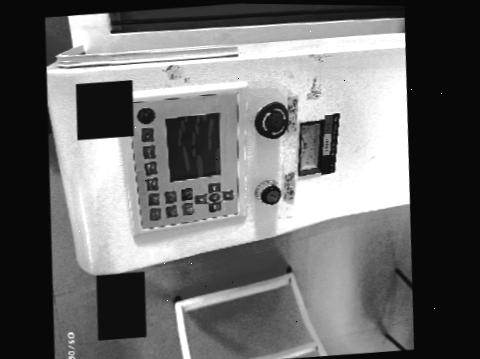Amp_Meter: (299, 123, 320, 173)
Display: (165, 113, 219, 181)
Down_button: (194, 193, 206, 204)
Emergency_Stop: (254, 101, 288, 138)
Enter_button: (181, 202, 192, 214)
Esc_button: (180, 187, 193, 201)
File_button: (146, 192, 159, 205)
Frame_button: (165, 204, 177, 217)
Left_button: (207, 182, 219, 192)
Max-Power_button: (145, 177, 157, 190)
Min-Power_button: (144, 161, 156, 175)
Origin_button: (163, 190, 176, 203)
Power_switch: (255, 180, 280, 204)
Pulse_button: (140, 127, 154, 142)
Reset_button: (136, 107, 154, 123)
Right_button: (208, 201, 220, 211)
Speed_button: (141, 144, 155, 159)
Start-Pause_button: (148, 207, 161, 220)
Up_button: (222, 189, 233, 200)
Z_U_button: (208, 192, 219, 201)
